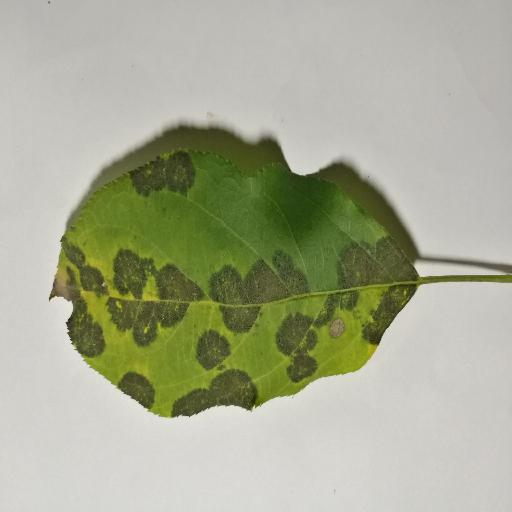Brown_Spot: (49, 76, 416, 443)
